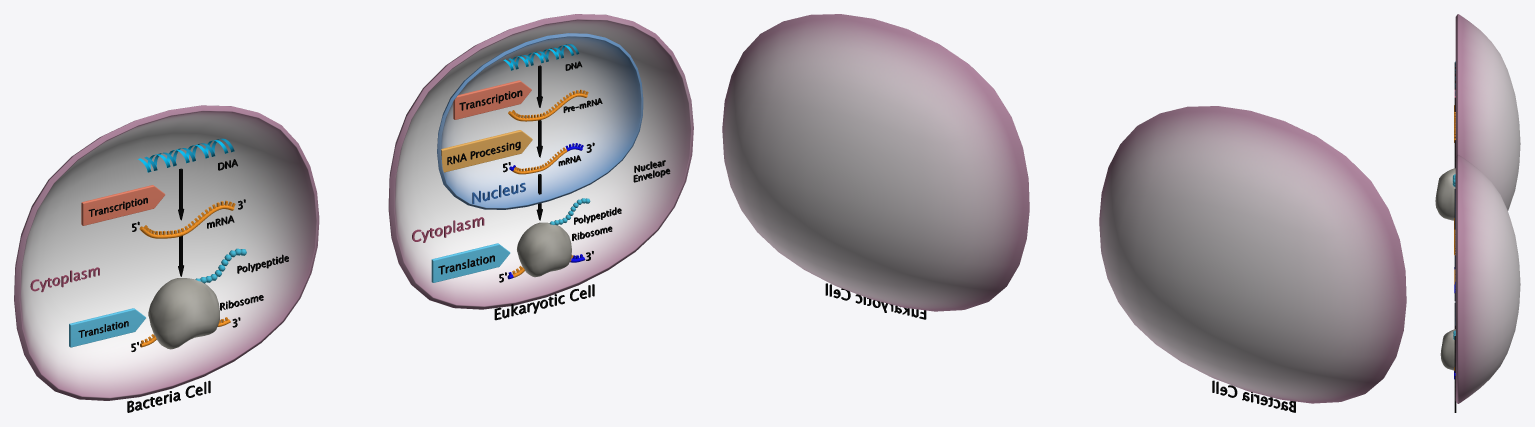
Rendered from Prokaryotes & eukaryotes Cell.glb.
3 views of the same model, side by side, from view 1: azimuth 30°, elevation 25°; view 2: azimuth 150°, elevation 25°; view 3: azimuth 270°, elevation 25° (orthographic). The views are drawn at different scales.
Parts seen in each view (by area): view 1: pCube66, polySurface84; view 2: pCube66, polySurface84; view 3: pCube66, polySurface84.
Part boxes in pixels (x1,y1,x2,y2): pCube66: (14,14,693,400); polySurface84: (30,61,670,412); pCube66: (722,14,1406,403); polySurface84: (825,283,1295,412); pCube66: (1435,14,1520,403); polySurface84: (1454,62,1456,412).
Size of the model in its own units: 0.3283 by 0.1342 by 0.0463.
Materials: 2 (2 with a texture image).
